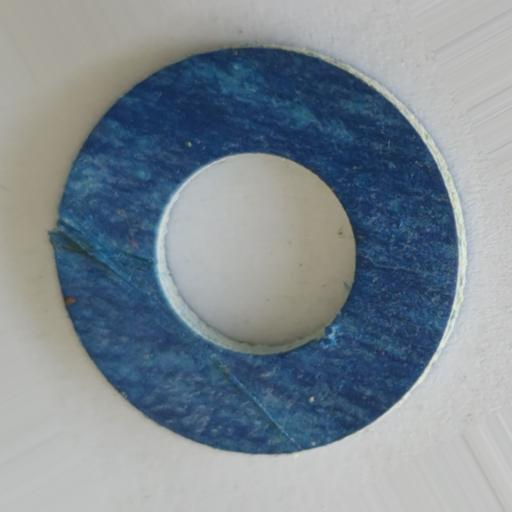defect: (47, 216, 305, 455)
